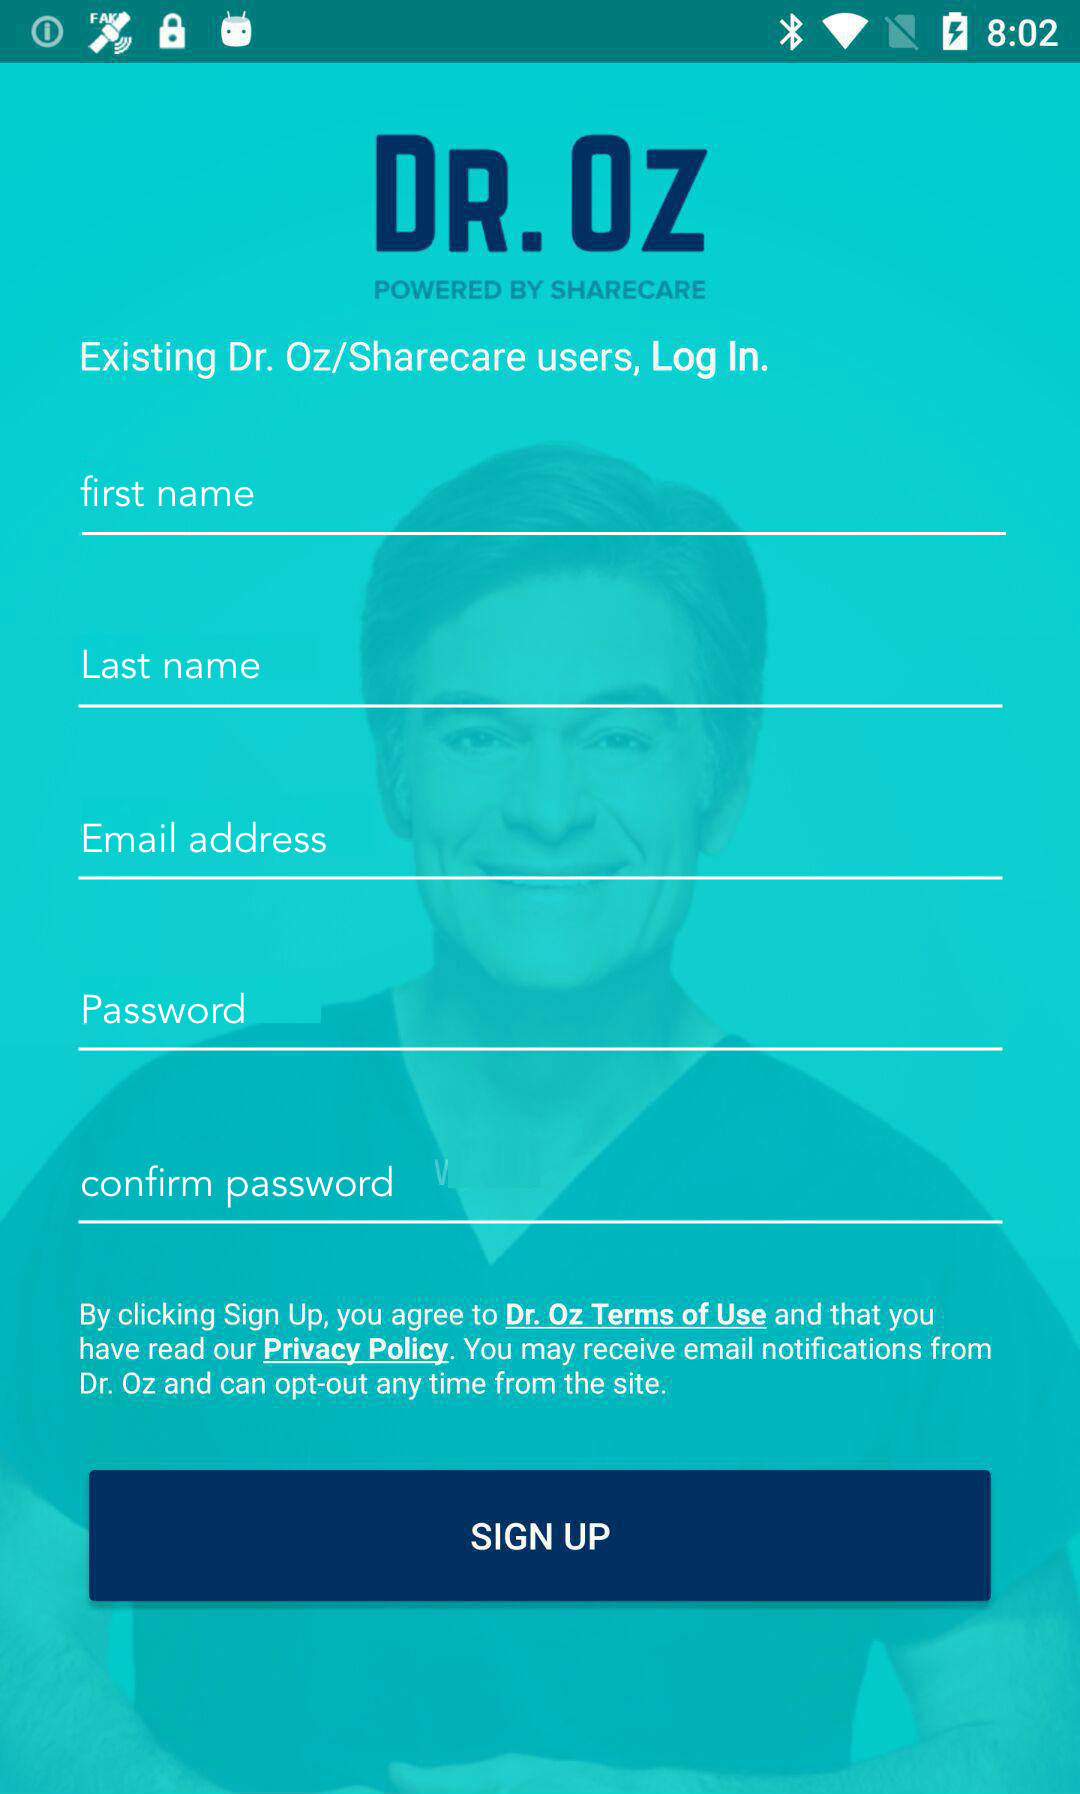BackgroundImage: (1, 64, 1080, 1794)
EditText: (81, 475, 1007, 537), (78, 648, 1003, 710), (78, 820, 1002, 882), (78, 992, 1002, 1053), (77, 1165, 1003, 1225)
Text: (79, 1299, 992, 1402), (374, 135, 708, 255), (81, 341, 641, 381), (82, 1165, 393, 1208), (85, 821, 327, 853), (374, 281, 706, 302), (85, 648, 260, 680), (82, 475, 254, 507), (85, 992, 246, 1024), (652, 340, 769, 383)
TextButton: (88, 1469, 992, 1602)
UpperTaskBar: (1, 1, 1080, 64)
